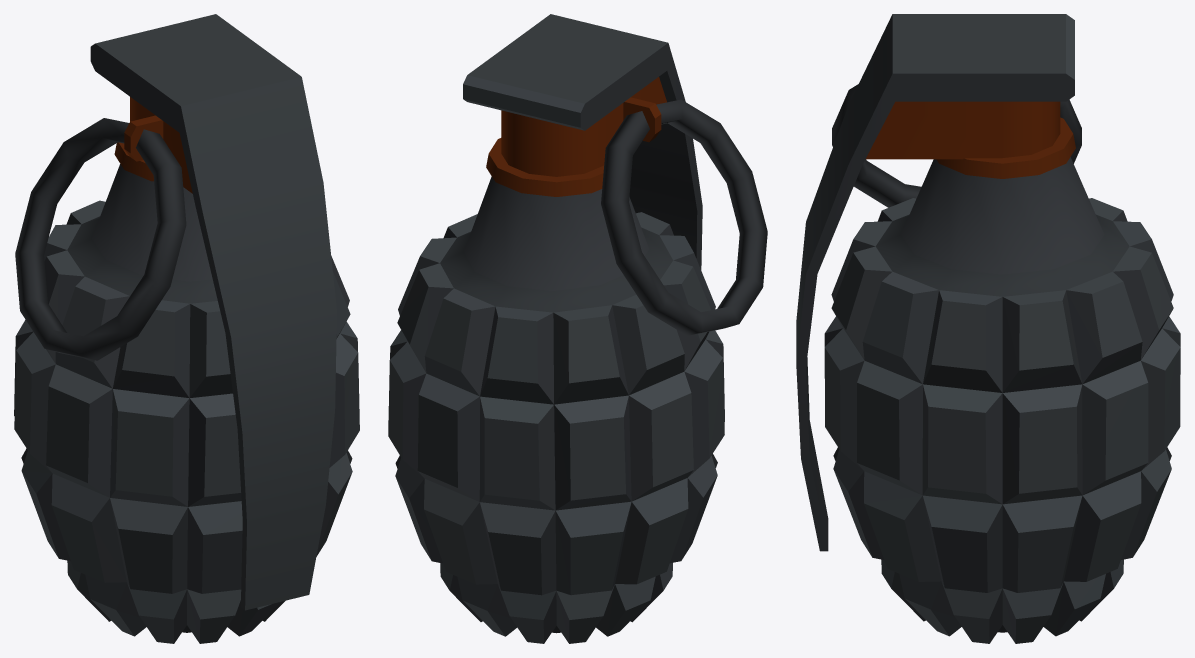
The model's file is Weapon_Enemy_grenade01_G01.fbx.
3 renders of one model, left to right at view 1: azimuth 30°, elevation 25°; view 2: azimuth 150°, elevation 25°; view 3: azimuth 270°, elevation 25°, orthographic. The views are drawn at different scales.
Parts seen in each view (by area): view 1: Weapon_Enemy_grenade01; view 2: Weapon_Enemy_grenade01; view 3: Weapon_Enemy_grenade01.
Boxes of the visible parts, x1,y1,x2,y2 form: Weapon_Enemy_grenade01: (14,14,359,643); Weapon_Enemy_grenade01: (388,14,767,643); Weapon_Enemy_grenade01: (796,14,1180,643).
Bounding box in the file's own units: 2.62 × 4.44 × 2.74.
